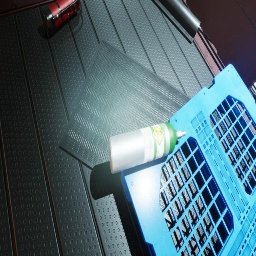0: (108, 122, 186, 174)
FireExtinguisher ]: (40, 0, 80, 34)
